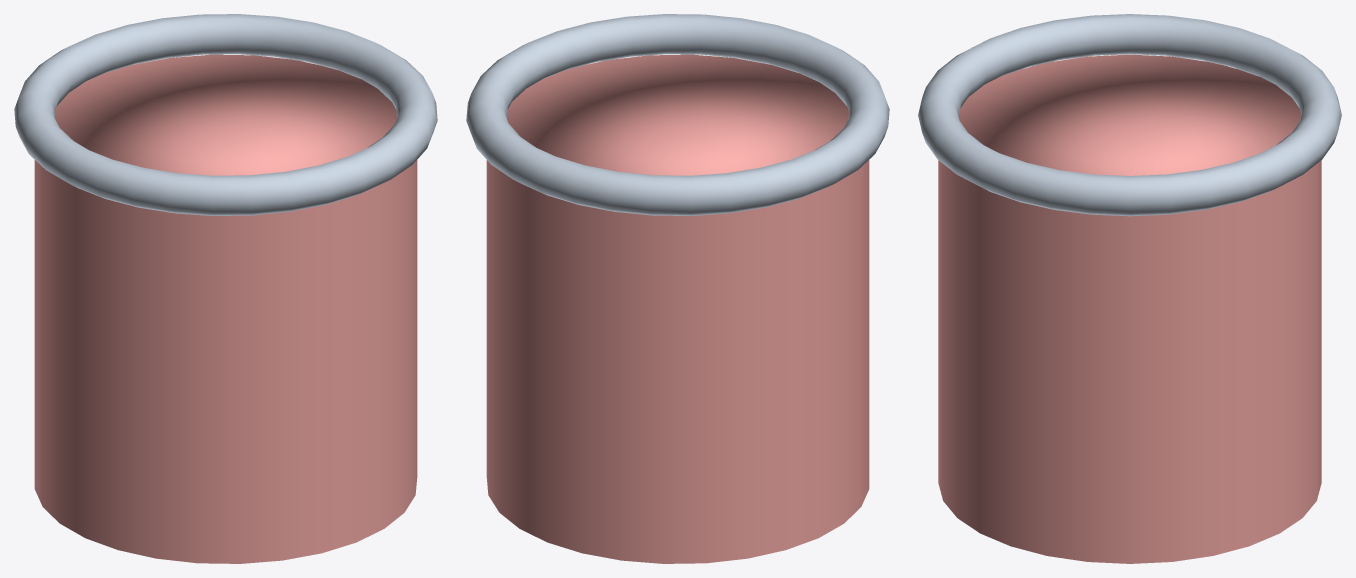
The model's file is waste_bin.glb.
The picture shows the model from 3 angles, left to right: view 1: azimuth 30°, elevation 25°; view 2: azimuth 150°, elevation 25°; view 3: azimuth 270°, elevation 25°; orthographic projection.
Parts seen in each view (by area): view 1: round clinical waste bin tapered body, dark waste bin rim; view 2: round clinical waste bin tapered body, dark waste bin rim; view 3: round clinical waste bin tapered body, dark waste bin rim.
Part boxes in pixels (x1=…): round clinical waste bin tapered body: x1=34, y1=54, x2=417, y2=563; dark waste bin rim: x1=14, y1=14, x2=437, y2=215; round clinical waste bin tapered body: x1=486, y1=54, x2=869, y2=563; dark waste bin rim: x1=466, y1=14, x2=889, y2=215; round clinical waste bin tapered body: x1=938, y1=54, x2=1321, y2=563; dark waste bin rim: x1=918, y1=14, x2=1341, y2=216.
Size of the model in its own units: 0.376 by 0.3771 by 0.376.
